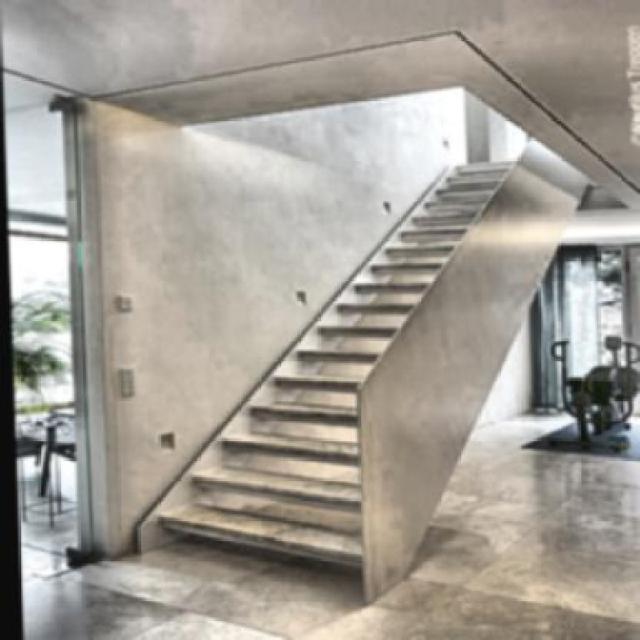stair: (109, 218, 465, 577)
